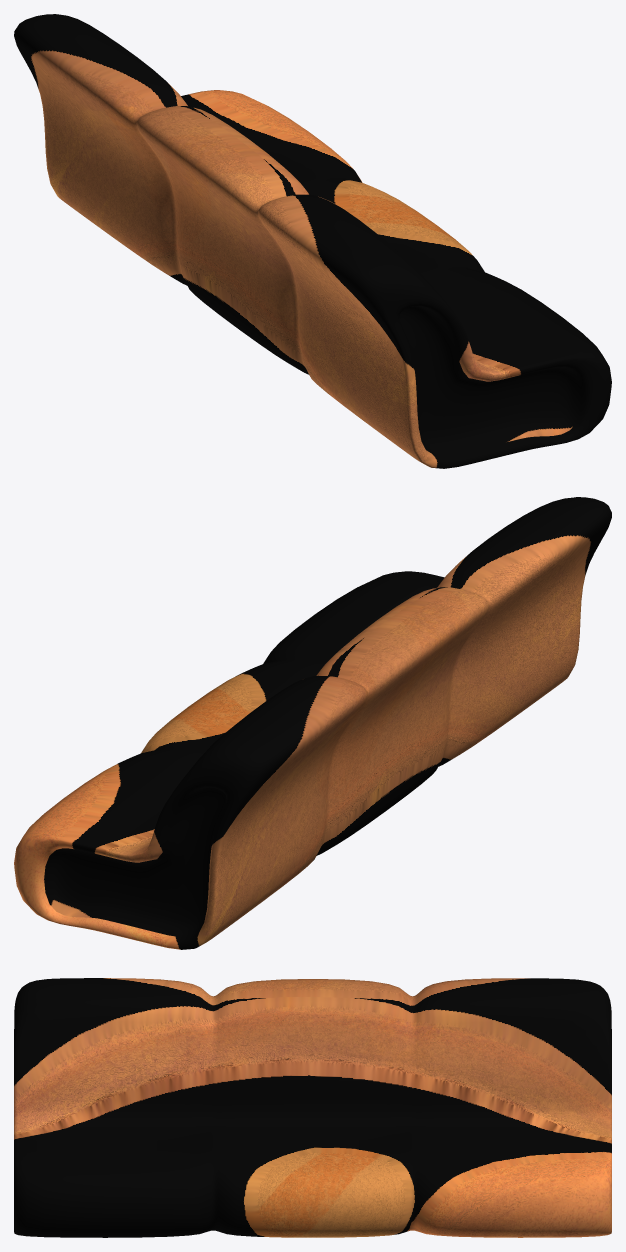
3 views of the same model, one above another, from view 1: azimuth 30°, elevation 25°; view 2: azimuth 150°, elevation 25°; view 3: azimuth 270°, elevation 25° (orthographic). The views are drawn at different scales.
Parts seen in each view (by area): view 1: BestSofa; view 2: BestSofa; view 3: BestSofa.
Boxes of the visible parts, x1=… form: BestSofa: x1=14, y1=14, x2=611, y2=468; BestSofa: x1=14, y1=497, x2=611, y2=949; BestSofa: x1=14, y1=978, x2=611, y2=1237.
Size of the model in its own units: 0.8358 by 0.6417 by 2.
